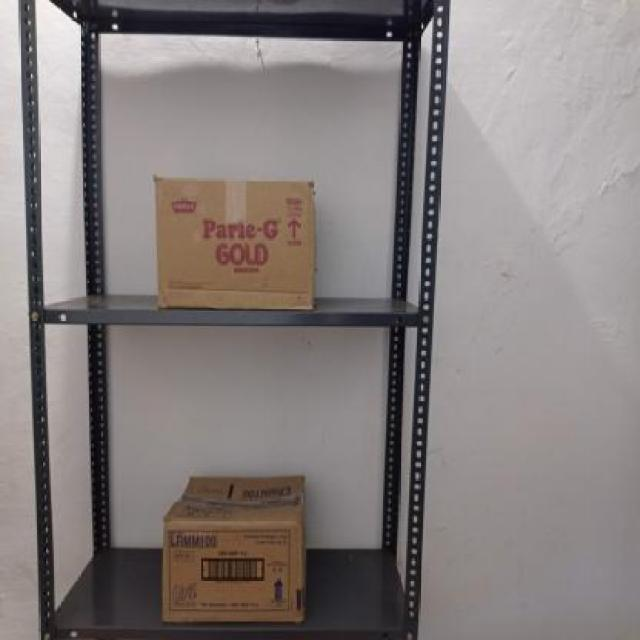box: (153, 176, 315, 312), (163, 519, 303, 624)
